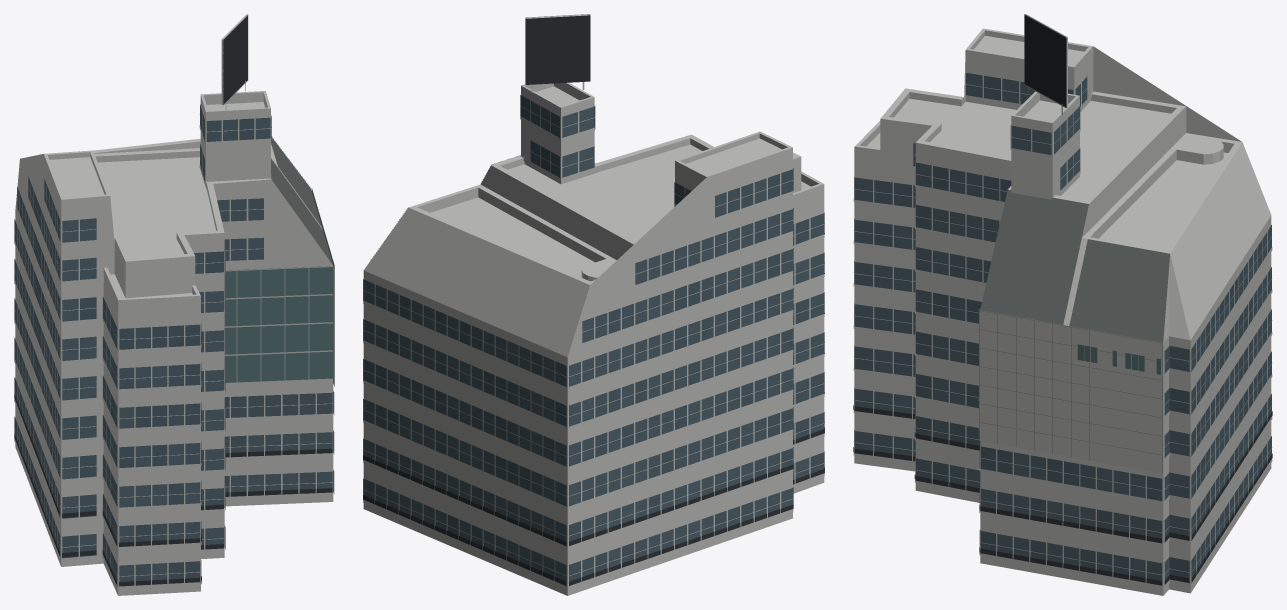
Rendered from baseline.glb.
3 renders of one model, left to right at view 1: azimuth 30°, elevation 25°; view 2: azimuth 150°, elevation 25°; view 3: azimuth 270°, elevation 25°, orthographic. The views are drawn at different scales.
Parts seen in each view (by area): view 1: takagi_wall, takagi_glass2, takagi_roof, takagi_glass0, takagi_glass1, takagi_fitted_glass, takagi_spandrel, takagi_frame, takagi_sign_housing, takagi_fitted_crown_rib, takagi_fitted_warm_panel; view 2: takagi_wall, takagi_roof, takagi_glass2, takagi_glass1, takagi_glass0, takagi_spandrel, takagi_frame, takagi_sign_housing; view 3: takagi_wall, takagi_roof, takagi_fitted_warm_panel, takagi_glass0, takagi_glass2, takagi_glass1, takagi_spandrel, takagi_fitted_crown_rib, takagi_sign_housing, takagi_frame, takagi_fitted_glass.
Boxes of the visible parts, box(x1,y1,x2,y2) form: takagi_wall: box(15, 92, 333, 595); takagi_glass2: box(14, 104, 333, 586); takagi_roof: box(44, 91, 332, 300); takagi_glass0: box(14, 118, 333, 585); takagi_glass1: box(14, 119, 332, 585); takagi_fitted_glass: box(224, 266, 332, 382); takagi_spandrel: box(14, 125, 334, 589); takagi_frame: box(14, 14, 334, 586); takagi_sign_housing: box(14, 15, 332, 586); takagi_fitted_crown_rib: box(271, 137, 334, 386); takagi_fitted_warm_panel: box(224, 188, 334, 383); takagi_wall: box(363, 83, 824, 595); takagi_roof: box(364, 82, 823, 357); takagi_glass2: box(363, 101, 824, 586); takagi_glass1: box(363, 95, 824, 580); takagi_glass0: box(363, 146, 824, 581); takagi_spandrel: box(363, 116, 824, 589); takagi_frame: box(363, 14, 824, 586); takagi_sign_housing: box(363, 15, 824, 585); takagi_wall: box(854, 30, 1271, 595); takagi_roof: box(855, 28, 1271, 342); takagi_fitted_warm_panel: box(978, 309, 1162, 473); takagi_glass0: box(854, 75, 1271, 585); takagi_glass2: box(854, 73, 1271, 581); takagi_glass1: box(854, 76, 1271, 583); takagi_spandrel: box(853, 91, 1272, 589); takagi_fitted_crown_rib: box(980, 189, 1169, 473); takagi_sign_housing: box(853, 15, 1272, 585); takagi_frame: box(853, 14, 1272, 585); takagi_fitted_glass: box(979, 309, 1160, 430).
Size of the model in its own units: 40.14 by 53.67 by 40.55.
